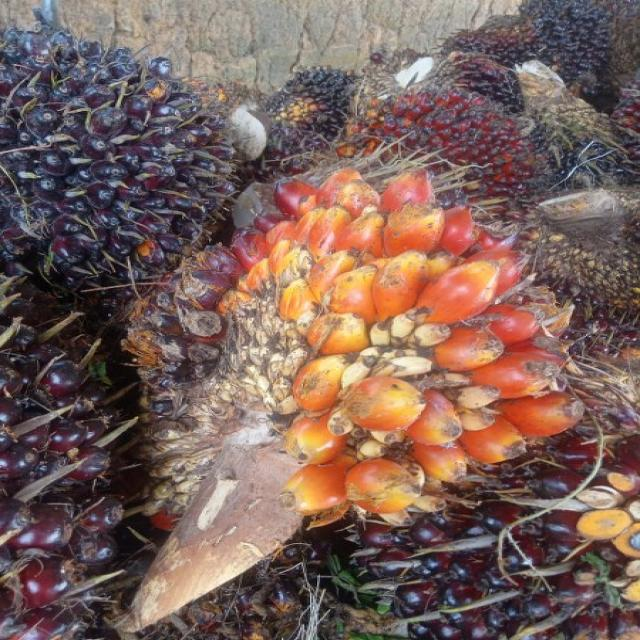fraksi 00: (0, 1, 316, 292)
fraksi 3: (125, 114, 583, 581)
